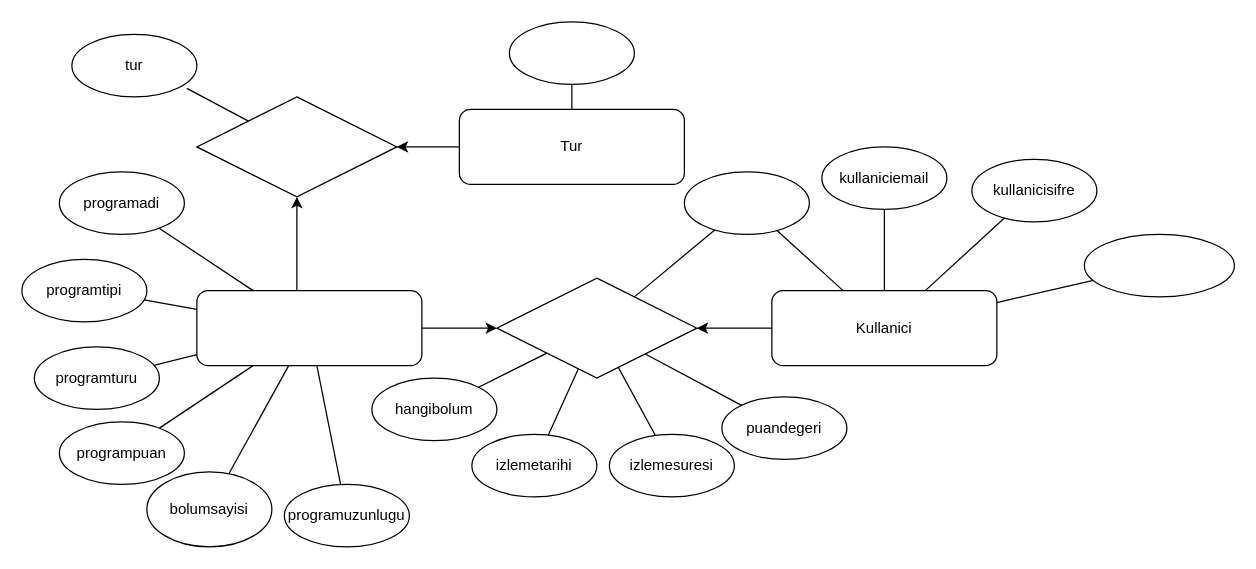
The diagram is 1256 pixels wide and 569 high, and some of its shapes have lost their labels. The box of each missing label's shape, as (x1, y1, x2, y2) in pixels:
kullaniciadi: (683, 171, 809, 234)
kullanicidogumtarihi: (1083, 233, 1234, 297)
Kullaniciprogram: (496, 277, 697, 378)
Program: (196, 289, 422, 366)
Programtur: (196, 96, 397, 197)
turadi: (508, 21, 634, 84)
